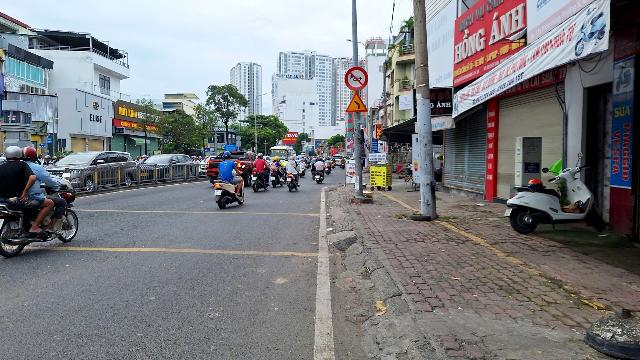cam-bop-coi: (344, 66, 368, 91)
cho-ngoat-nguy-hiem-ben-trai: (345, 91, 369, 112)
